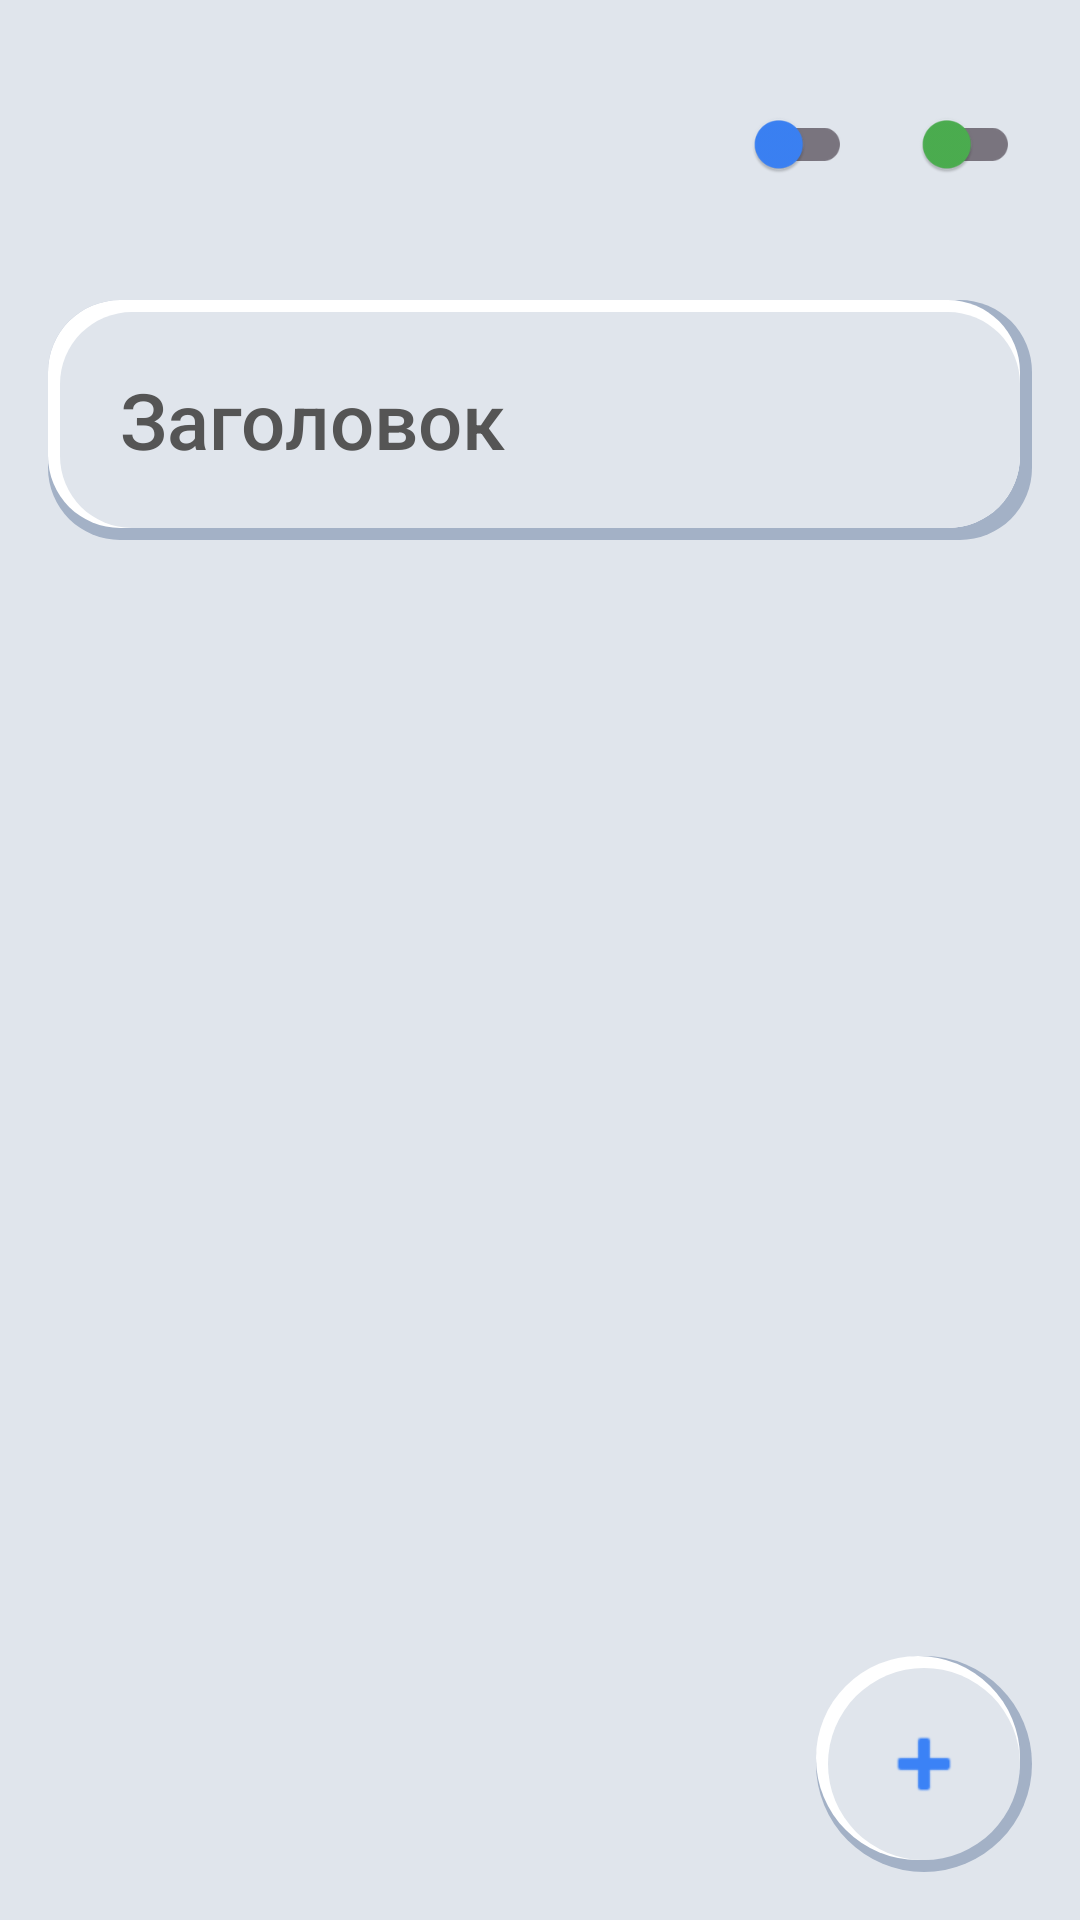

Locate icon controls on the screen. Image size 1080 × 1920, boxes as [x1, y1, x2, y2].
Добавить строку: [816, 1656, 1032, 1872]
